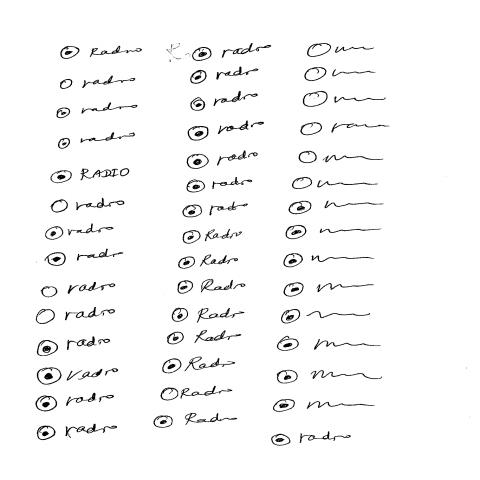Radio Button: (277, 369, 384, 385), (277, 336, 380, 352), (187, 121, 266, 141), (37, 367, 119, 386), (273, 398, 376, 413), (35, 393, 115, 412), (37, 337, 112, 357), (280, 309, 372, 325), (187, 150, 260, 170), (45, 249, 126, 267), (283, 282, 374, 298), (154, 412, 239, 429), (284, 253, 374, 269), (192, 44, 274, 61), (36, 308, 117, 325), (190, 91, 258, 111), (163, 357, 237, 375), (58, 133, 136, 150), (57, 103, 139, 119), (37, 425, 118, 441), (51, 168, 131, 184), (190, 67, 260, 85), (166, 330, 243, 346), (41, 282, 117, 298), (60, 46, 143, 60), (60, 75, 136, 90), (46, 224, 116, 240), (52, 198, 126, 213), (172, 308, 246, 323), (187, 177, 254, 193), (183, 201, 249, 217), (183, 228, 245, 245), (272, 433, 353, 446), (178, 279, 247, 294), (177, 254, 240, 270), (162, 387, 234, 401)
